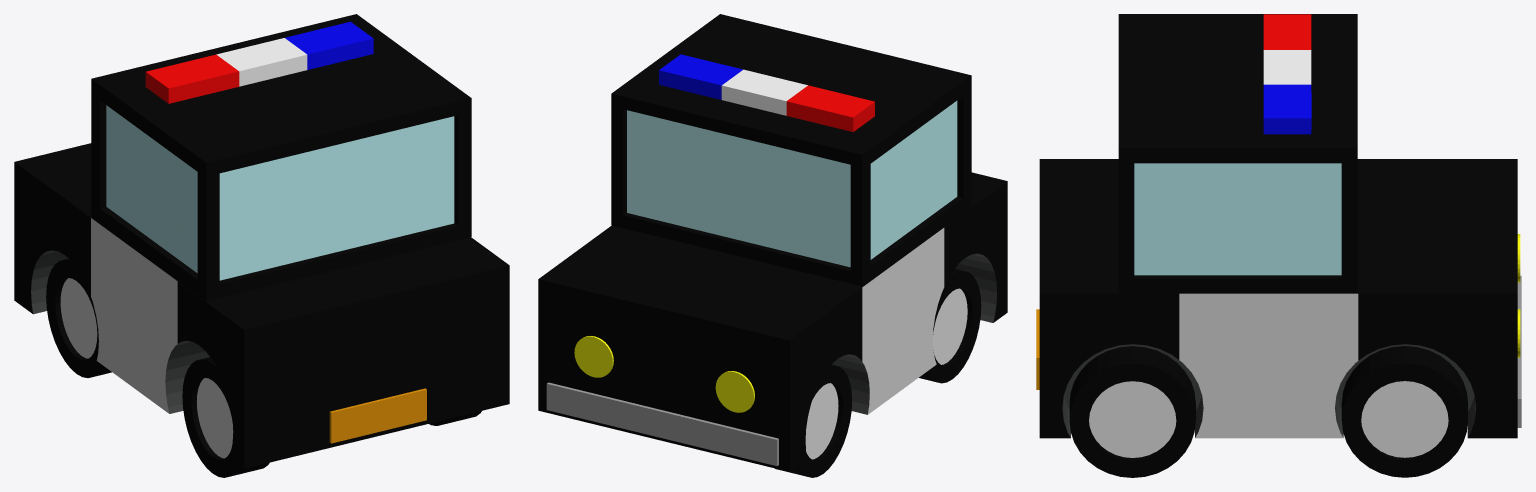
Rendered from PoliceCar.glb.
3 renders of one model, left to right at view 1: azimuth 30°, elevation 25°; view 2: azimuth 150°, elevation 25°; view 3: azimuth 270°, elevation 25°, orthographic. The views are drawn at different scales.
Visible parts, largest first — view 1: Chassis, Siren Lights, Wheel.001, Wheel, License Plate; view 2: Chassis, Siren Lights, Metal Bumper, Wheel.001, Wheel, Headlight.001, Headlight; view 3: Chassis, Wheel.003, Wheel.002, Siren Lights, Metal Bumper.
Boxes of the visible parts, x1,y1,x2,y2 form: Chassis: (14,14,509,468); Siren Lights: (145,21,373,103); Wheel.001: (182,357,269,477); Wheel: (46,258,111,377); License Plate: (329,388,426,443); Chassis: (538,14,1007,471); Siren Lights: (659,54,874,131); Metal Bumper: (546,382,778,465); Wheel.001: (919,269,981,383); Wheel: (775,365,852,477); Headlight.001: (574,336,613,377); Headlight: (715,371,754,412); Chassis: (1039,14,1517,438); Wheel.003: (1069,346,1195,477); Wheel.002: (1341,346,1467,477); Siren Lights: (1263,14,1311,134); Metal Bumper: (1517,275,1521,427).
Bounding box in the file's own units: 4 × 4.82 × 6.09.
